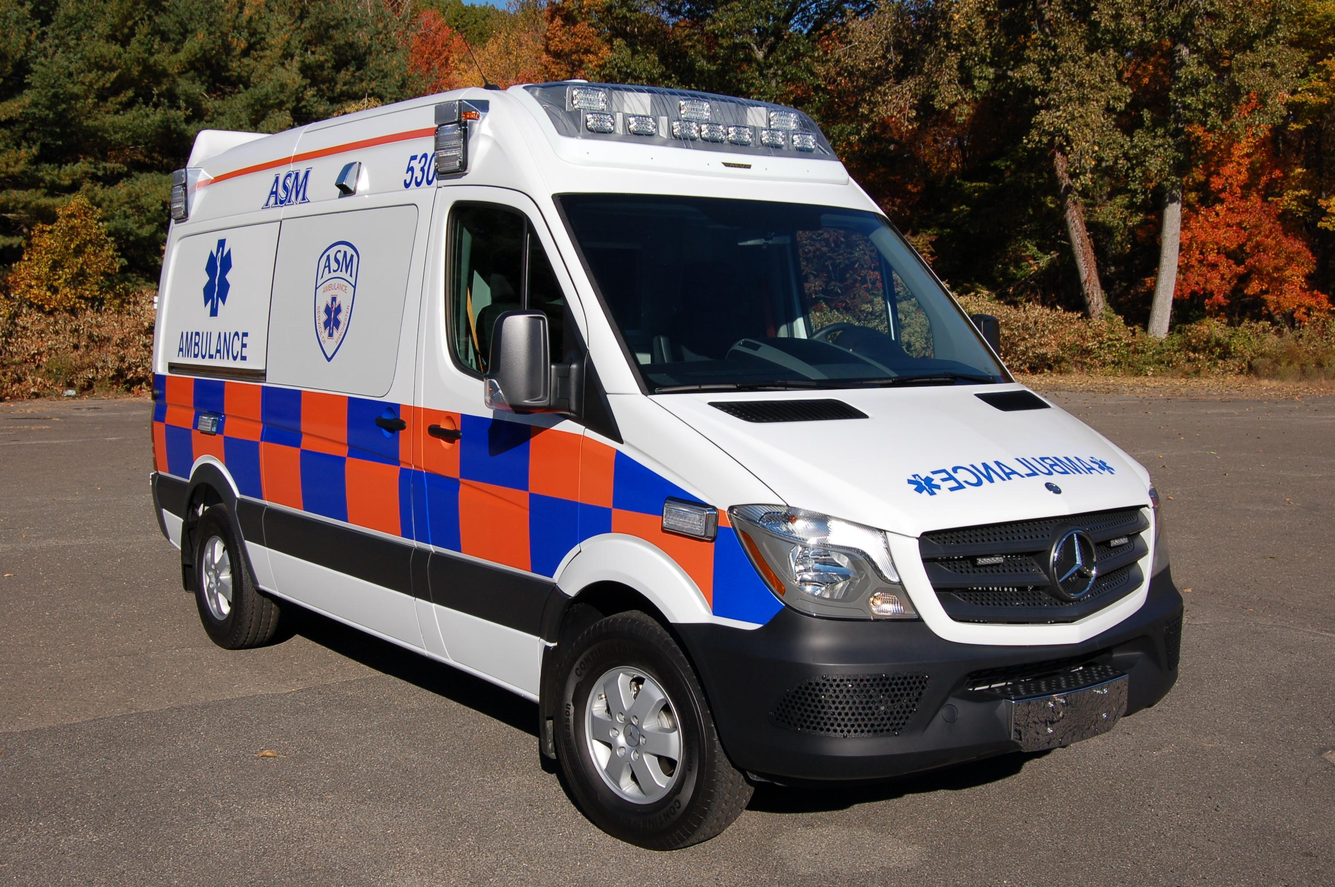Ambulance: (926, 453, 1125, 498)
